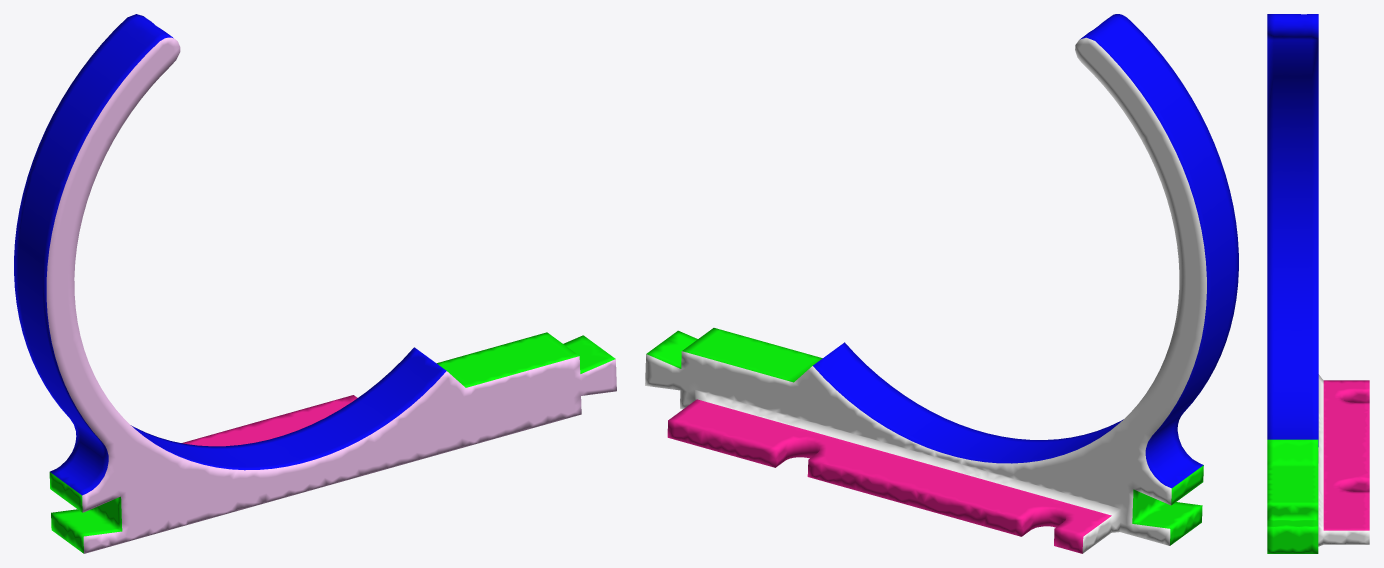
The model's file is can_holder_segmented.obj.
3 renders of one model, left to right at view 1: azimuth 30°, elevation 25°; view 2: azimuth 150°, elevation 25°; view 3: azimuth 270°, elevation 25°, orthographic. The views are drawn at different scales.
Bounding box in the file's own units: 101 × 84.1 × 20.
